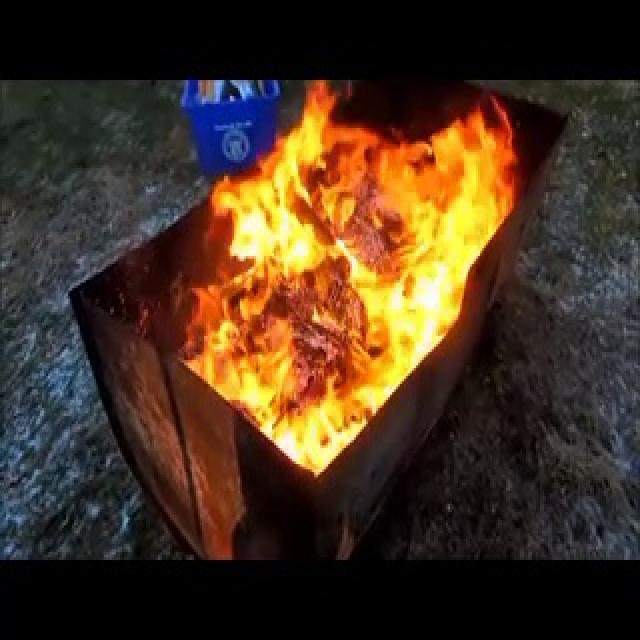fire: (187, 82, 519, 486)
